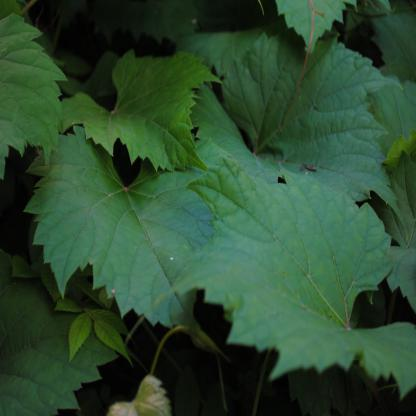grape leaf: (191, 160, 395, 332), (37, 133, 204, 334), (57, 48, 209, 173)
